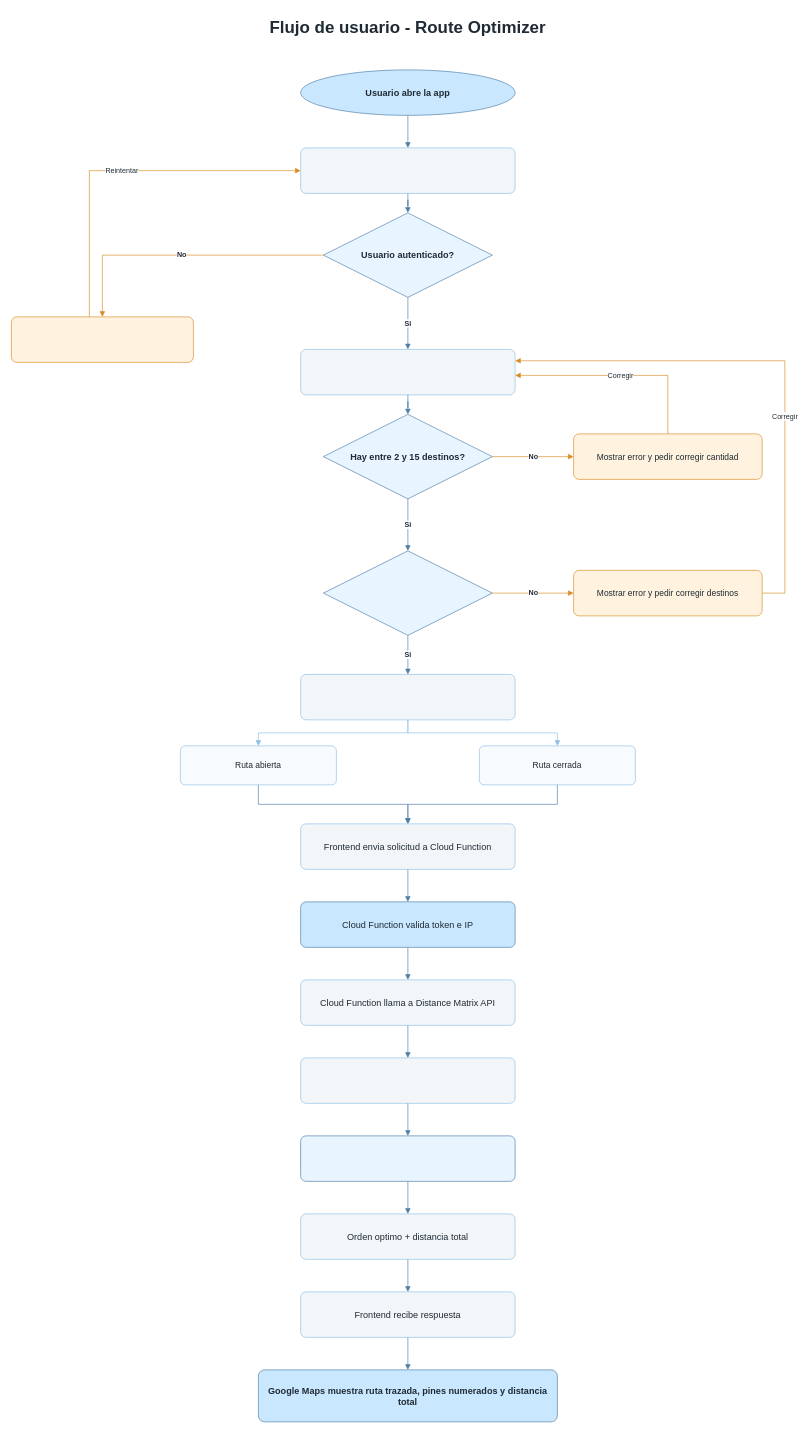
This 809x1433 diagram has some shape labels left out. Here are the shapes that lost their labels. From the top down, the centre of each, then its label:
At (x=407, y=170): "Login con Firebase Authentication".
At (x=102, y=339): "Volver al login o bloquear acceso".
At (x=407, y=372): "Usuario ingresa destinos".
At (x=407, y=592): "Radio maximo de 100 km valido?".
At (x=407, y=697): "Usuario selecciona modo".
At (x=407, y=1080): "Se construye matriz de distancias".
At (x=407, y=1158): "Se ejecuta algoritmo genetico".
